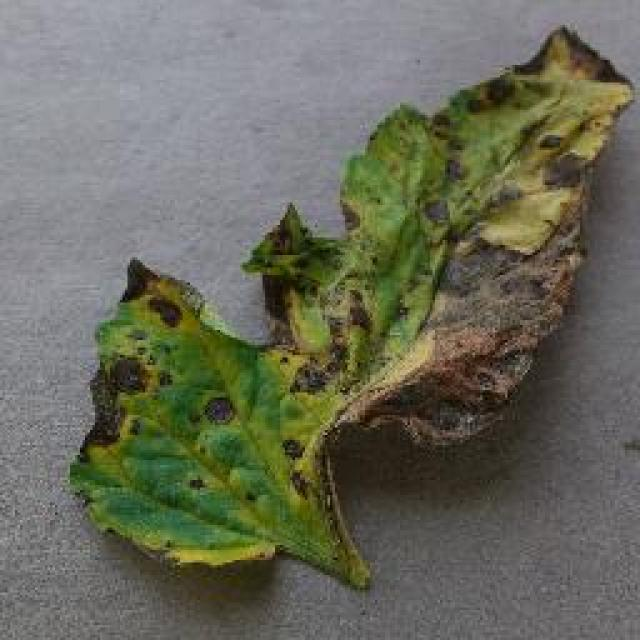Tomato_Early_Blight: (57, 23, 638, 584)
